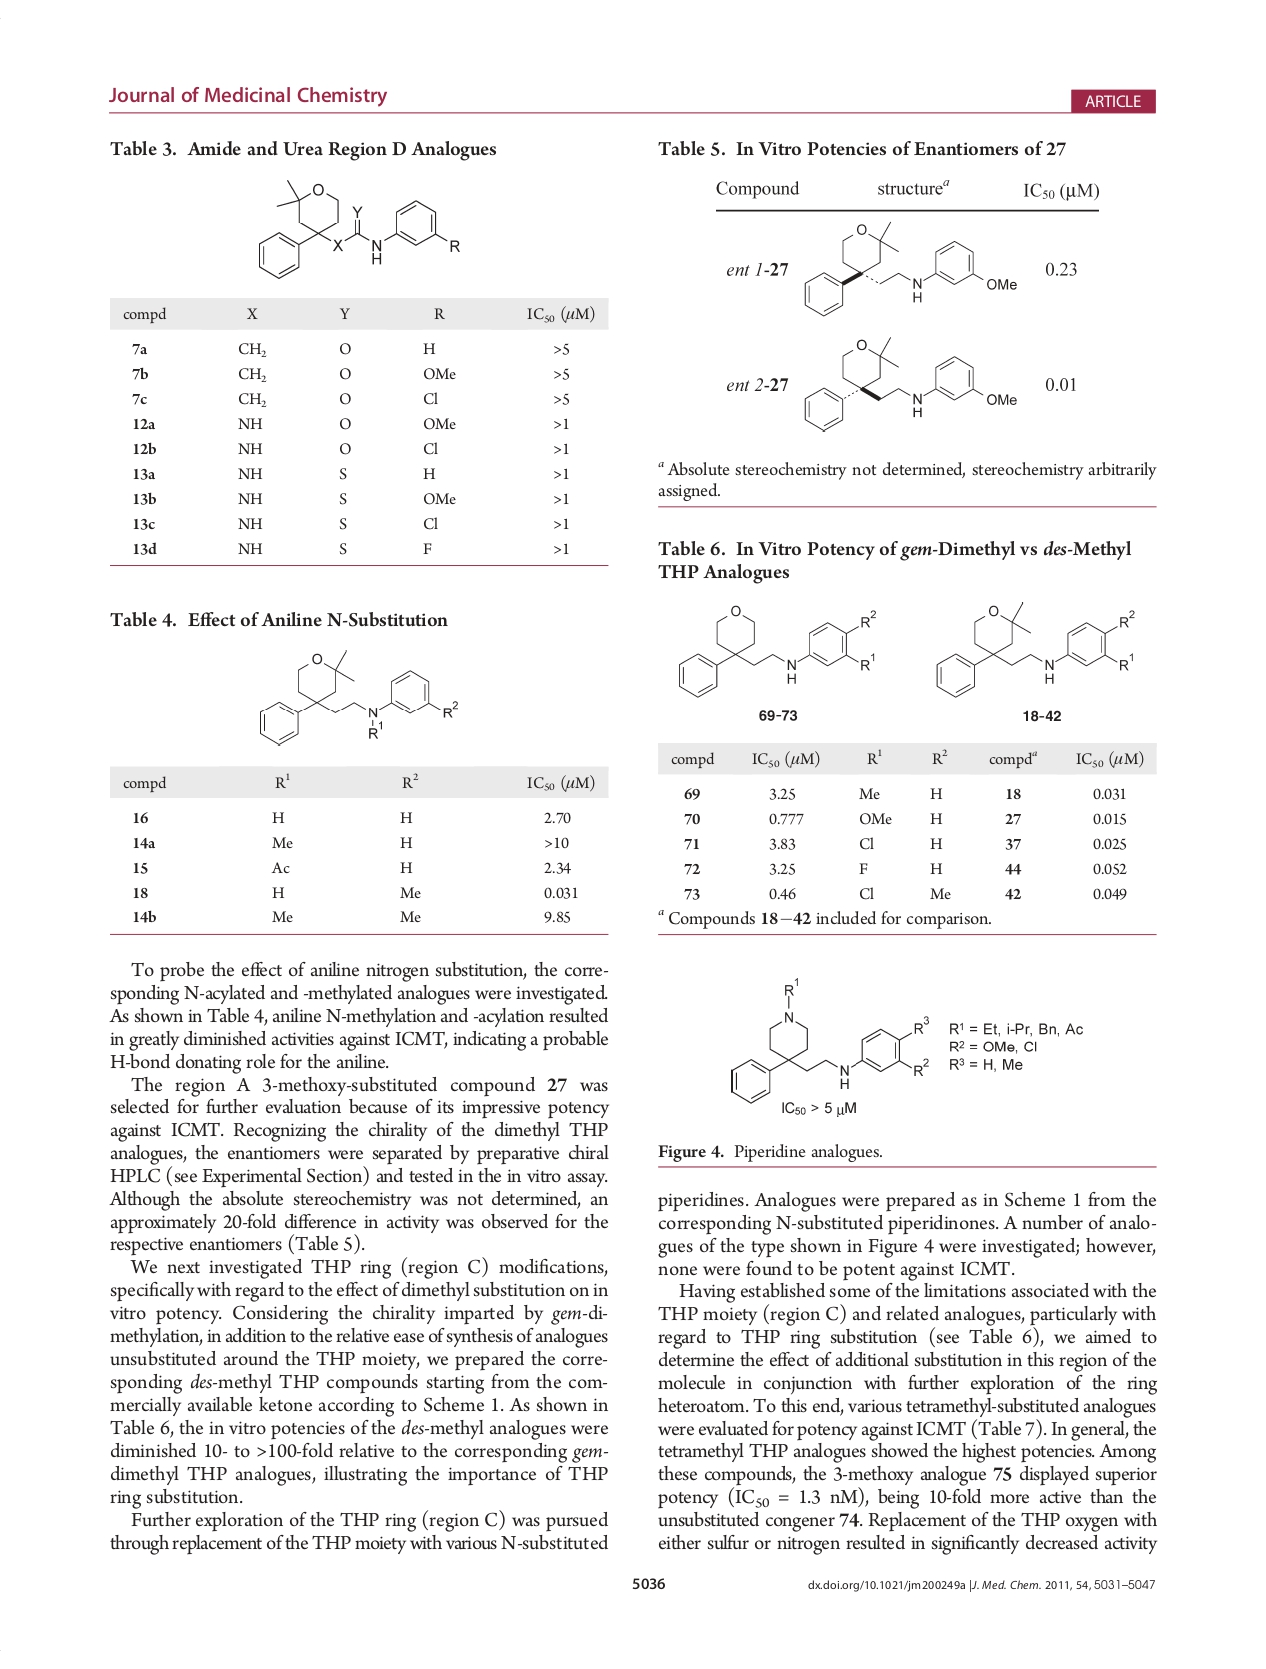exist_molecular: (725, 976, 934, 1106), (798, 332, 1021, 436), (255, 177, 465, 283), (799, 219, 1019, 321), (930, 597, 1140, 702), (673, 598, 880, 702), (255, 649, 461, 749)
